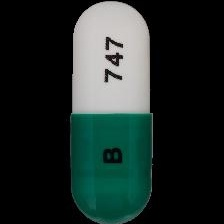64725-0747: (0, 0, 224, 224)
